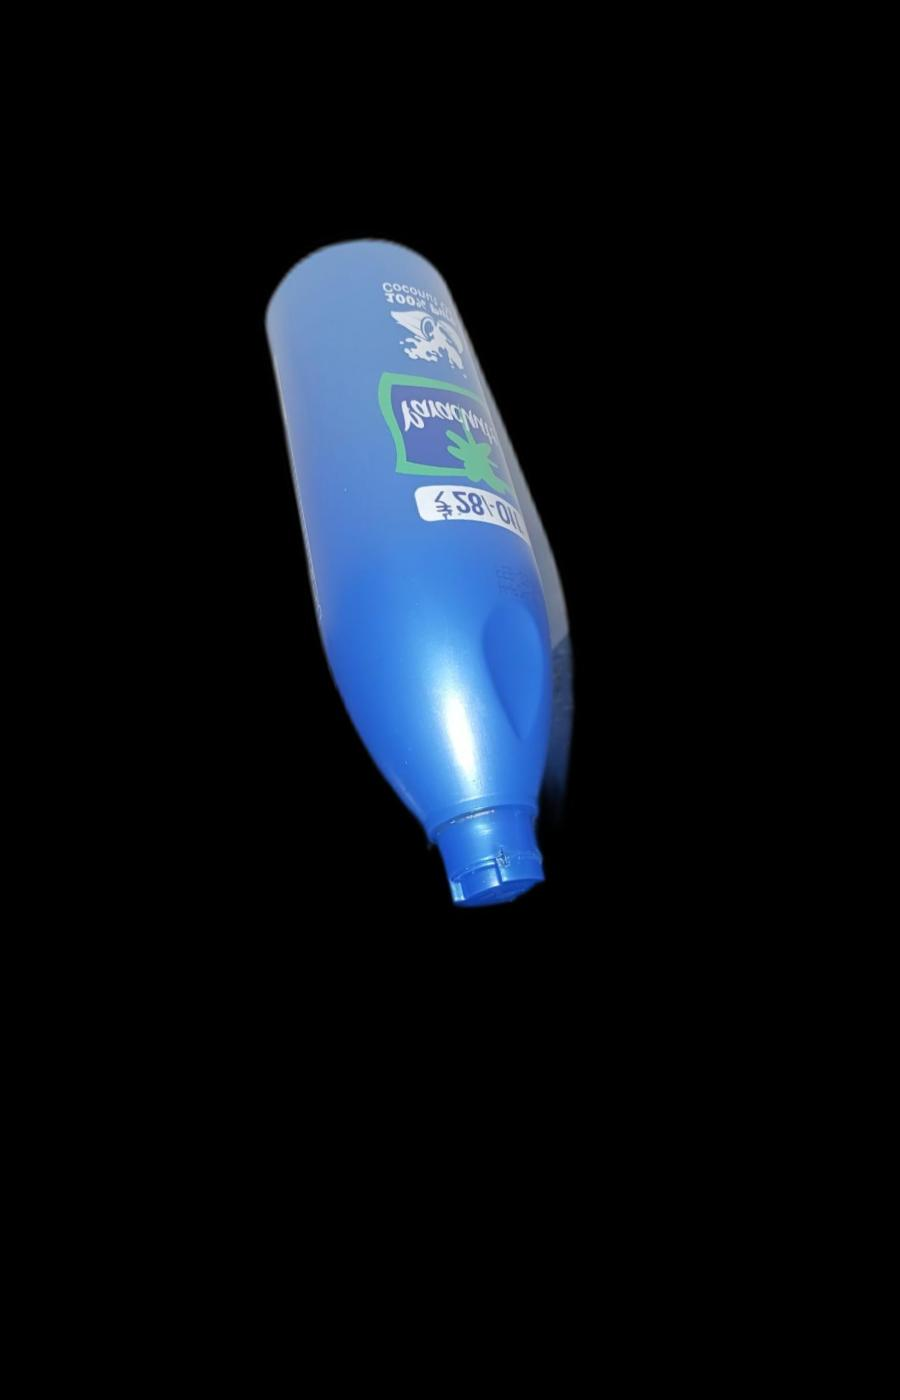Parachute Coconut Oil 600 ml - Bottle: (247, 211, 614, 938)
